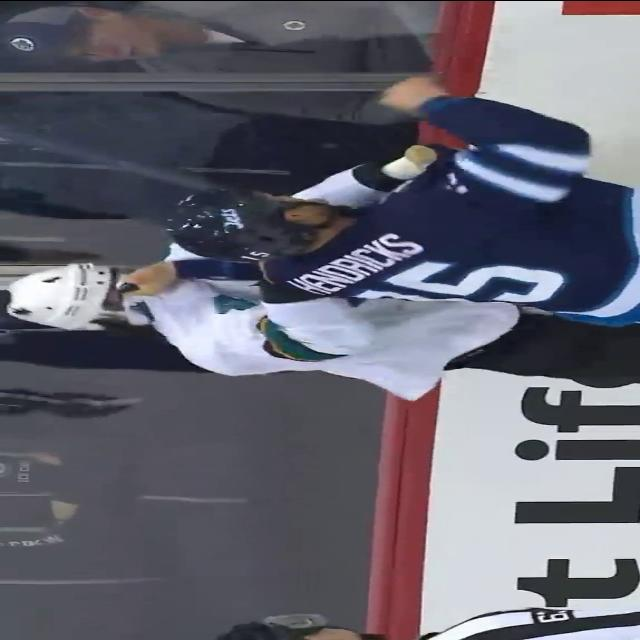Violence: (0, 84, 640, 399)
